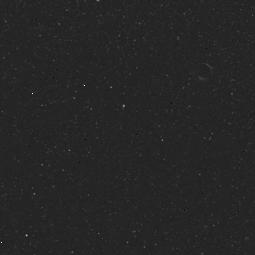debris: (189, 61, 216, 86)
